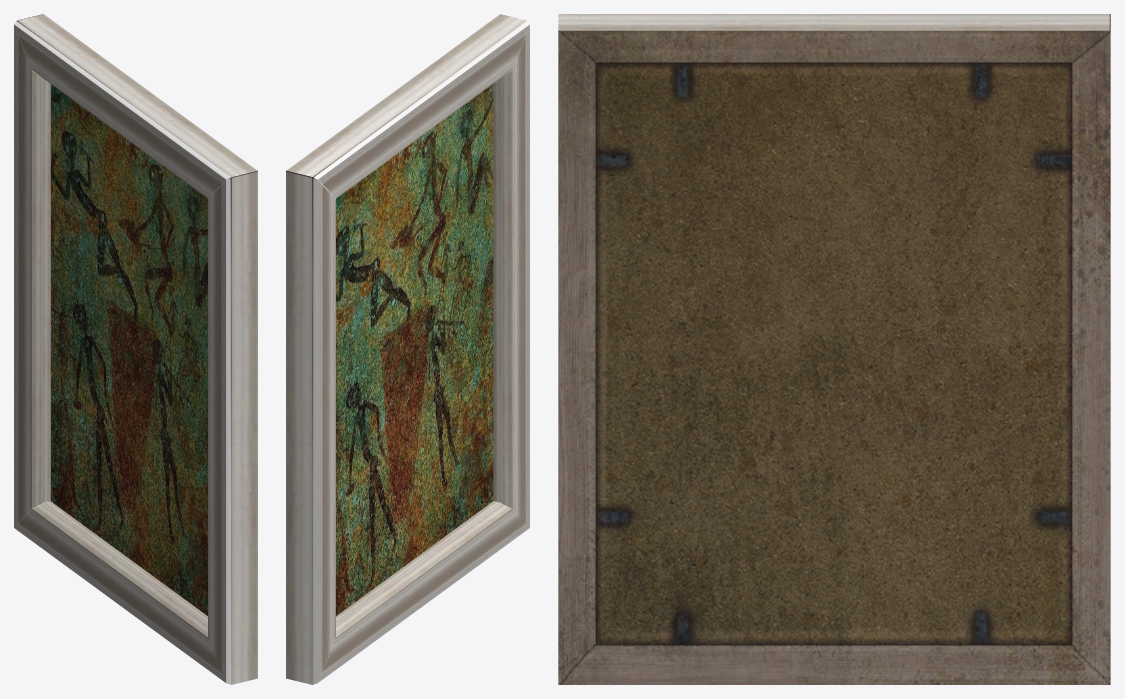
The model's file is painting_kitsch_03.dae.
3 renders of one model, left to right at view 1: azimuth 30°, elevation 25°; view 2: azimuth 150°, elevation 25°; view 3: azimuth 270°, elevation 25°, orthographic. The views are drawn at different scales.
Visible parts, largest first — view 1: painting_kitsch_03_Mesh; view 2: painting_kitsch_03_Mesh; view 3: Mesh__2_, painting_kitsch_03_Mesh.
Part boxes in pixels (x1,y1,x2,y2): painting_kitsch_03_Mesh: (14, 14, 257, 684); painting_kitsch_03_Mesh: (286, 14, 529, 684); Mesh__2_: (558, 30, 1110, 684); painting_kitsch_03_Mesh: (558, 14, 1110, 30).
Bounding box in the file's own units: 5.36 × 84.42 × 64.58.
